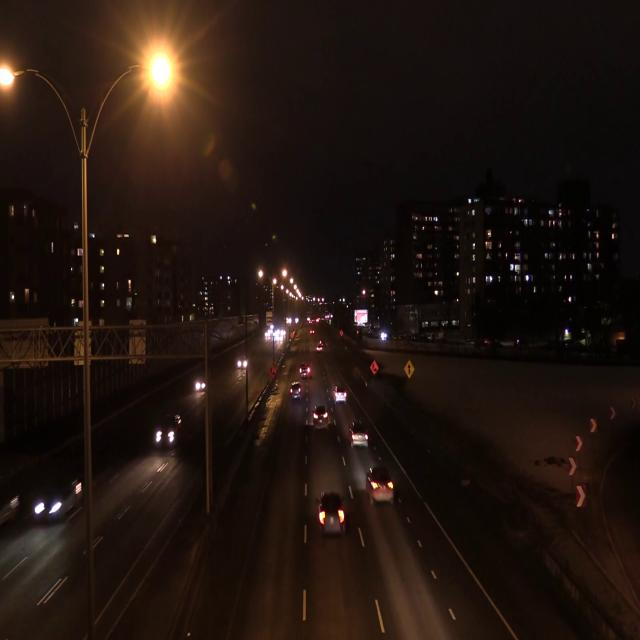car: (34, 476, 82, 520), (317, 490, 347, 536), (366, 465, 396, 504), (154, 412, 182, 446), (348, 420, 368, 449), (312, 404, 328, 429), (334, 385, 347, 404), (290, 382, 302, 401), (300, 361, 310, 378), (195, 378, 206, 393), (238, 356, 248, 370), (316, 344, 322, 352)
